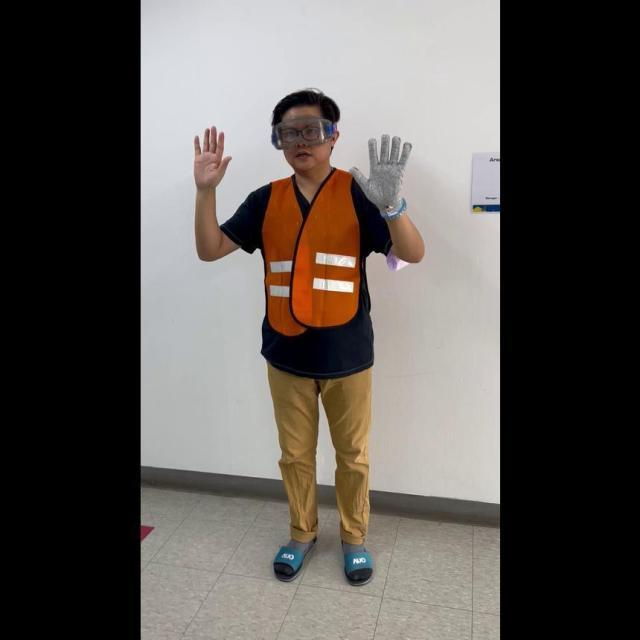bare_hand: (190, 121, 231, 191)
gloved_hand: (348, 129, 410, 215)
